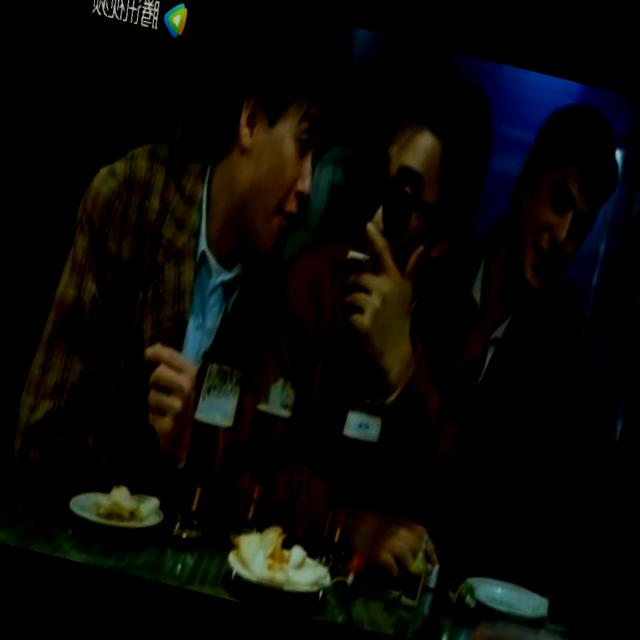cigarette: (344, 237, 377, 267)
